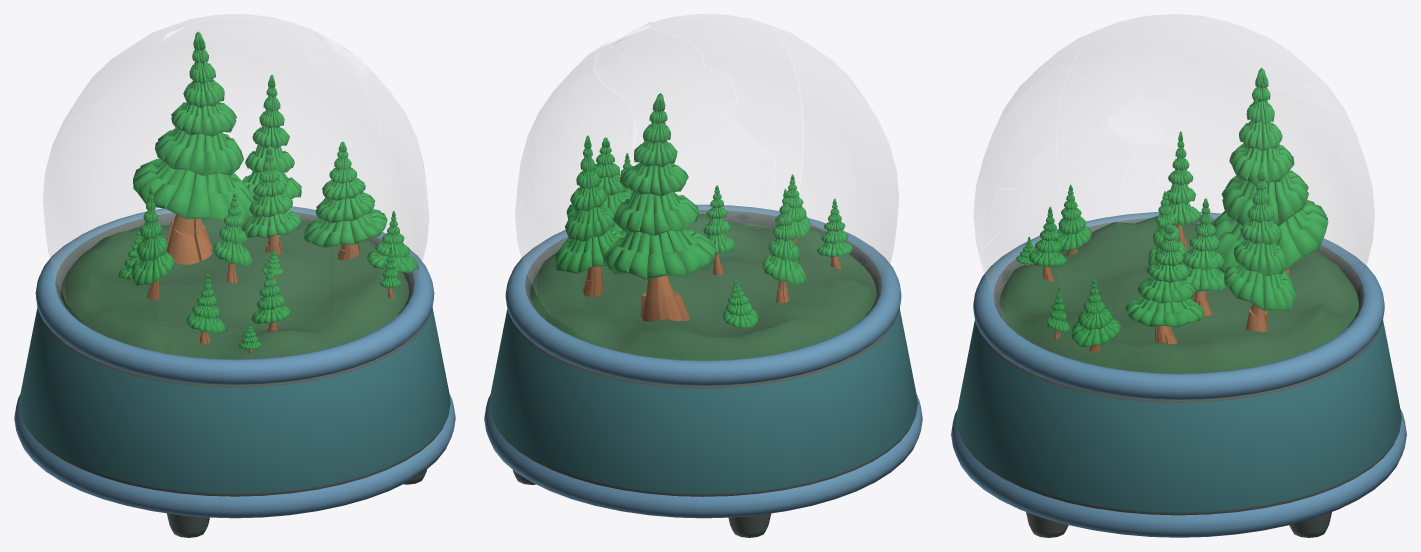
Rendered from broken_forest_globe.fbx.
3 views of the same model, side by side, from view 1: azimuth 30°, elevation 25°; view 2: azimuth 150°, elevation 25°; view 3: azimuth 270°, elevation 25° (orthographic). The views are drawn at different scales.
Parts seen in each view (by area): view 1: model_0, model_1.001, Sphere.001; view 2: model_0, Sphere.001, model_1.001; view 3: model_0, Sphere.001, model_1.001.
Boxes of the visible parts, bbox=[...] form: model_0: bbox=[14, 206, 455, 537]; model_1.001: bbox=[60, 31, 418, 359]; Sphere.001: bbox=[43, 14, 428, 304]; model_0: bbox=[484, 204, 922, 537]; Sphere.001: bbox=[515, 14, 898, 306]; model_1.001: bbox=[530, 93, 876, 360]; model_0: bbox=[951, 212, 1406, 537]; Sphere.001: bbox=[974, 14, 1374, 321]; model_1.001: bbox=[999, 67, 1358, 373].
Size of the model in its own units: 1895 by 2040 by 1895.
